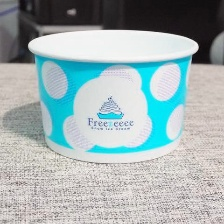paper_cup: (22, 26, 203, 166)
